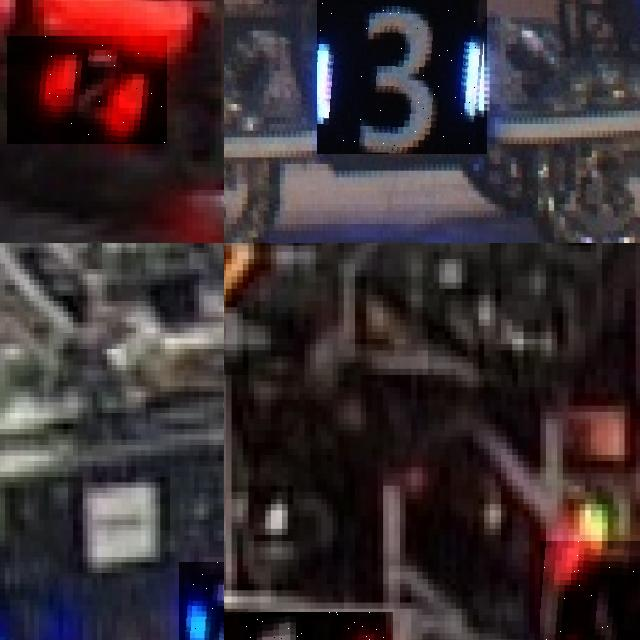B2: (179, 562, 224, 640)
B3: (317, 0, 486, 154)
R1: (540, 541, 640, 640)
R2: (7, 36, 167, 144)
